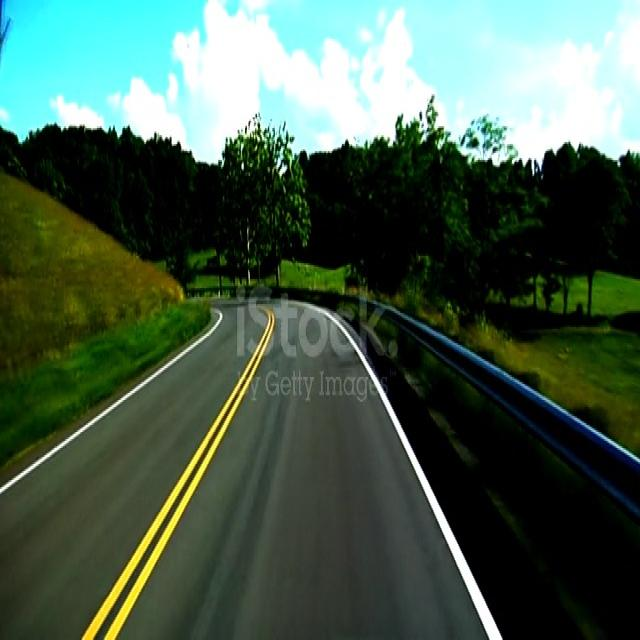lane: (82, 308, 274, 638), (82, 311, 275, 639), (336, 322, 500, 640), (1, 309, 222, 494)
road: (0, 302, 497, 636)
